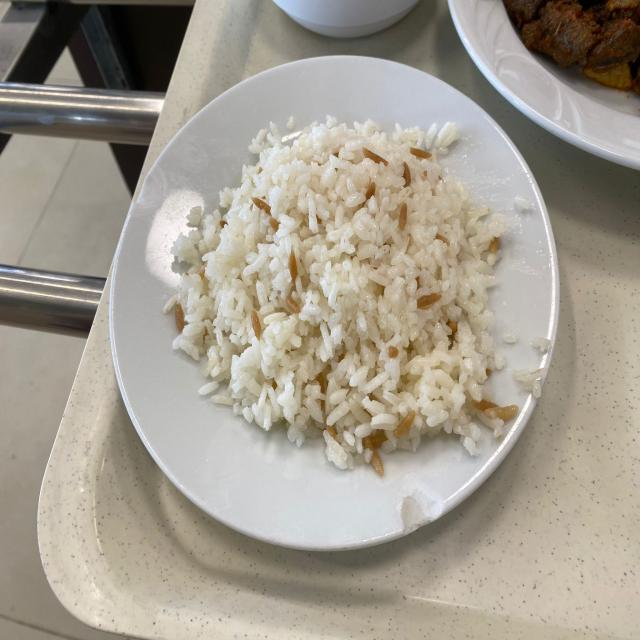ana_yemek: (112, 52, 534, 548), (448, 1, 638, 174)
